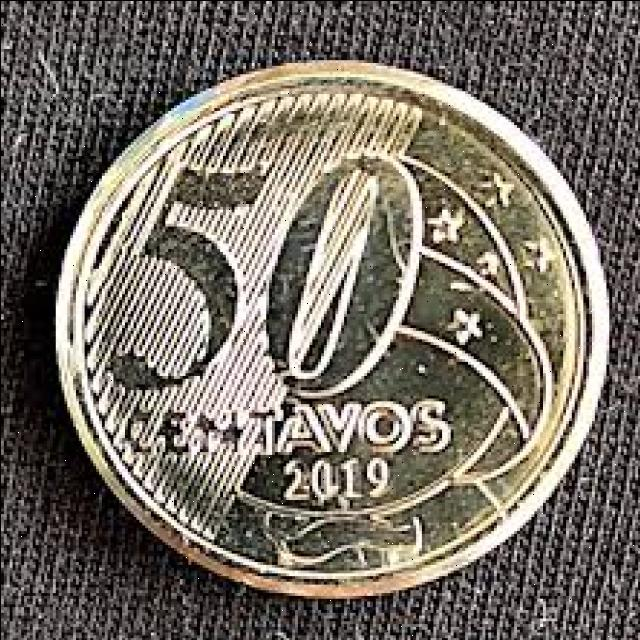50 cent: (57, 56, 609, 592)
